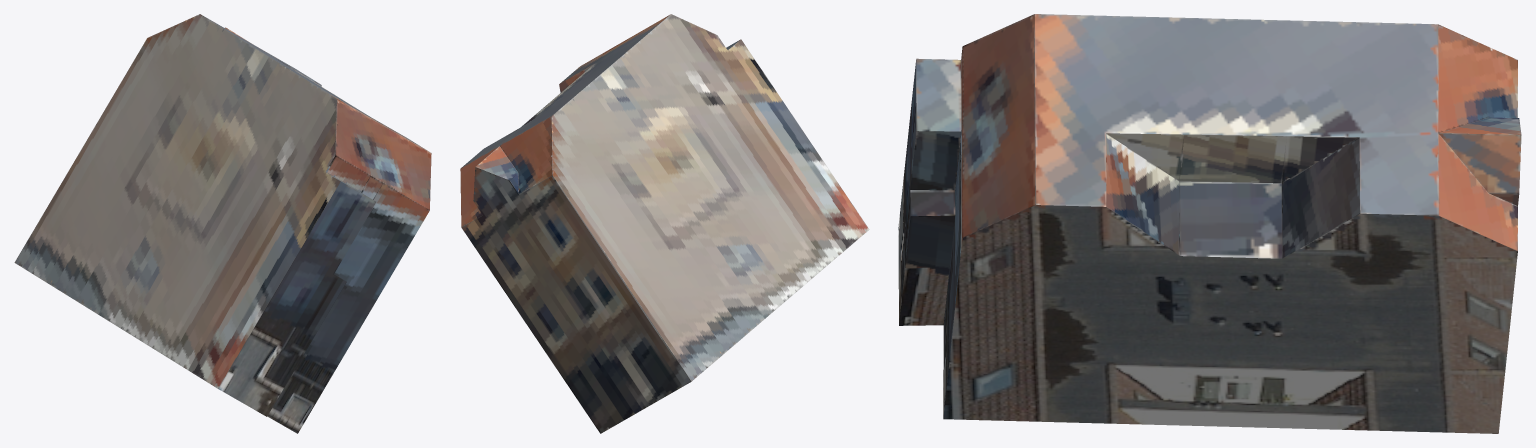
3 renders of one model, left to right at view 1: azimuth 30°, elevation 25°; view 2: azimuth 150°, elevation 25°; view 3: azimuth 270°, elevation 25°, orthographic. The views are drawn at different scales.
Parts seen in each view (by area): view 1: BAG_0599100000670791 (×3); view 2: BAG_0599100000670791 (×2); view 3: BAG_0599100000670791 (×5).
Boxes of the visible parts, x1=… form: BAG_0599100000670791 (×3): x1=14, y1=14, x2=431, y2=433; BAG_0599100000670791 (×2): x1=460, y1=14, x2=869, y2=433; BAG_0599100000670791 (×5): x1=898, y1=14, x2=1521, y2=433.
Bounding box in the file's own units: 12.86 × 14.28 × 16.88.
1 material, 1 textured.
